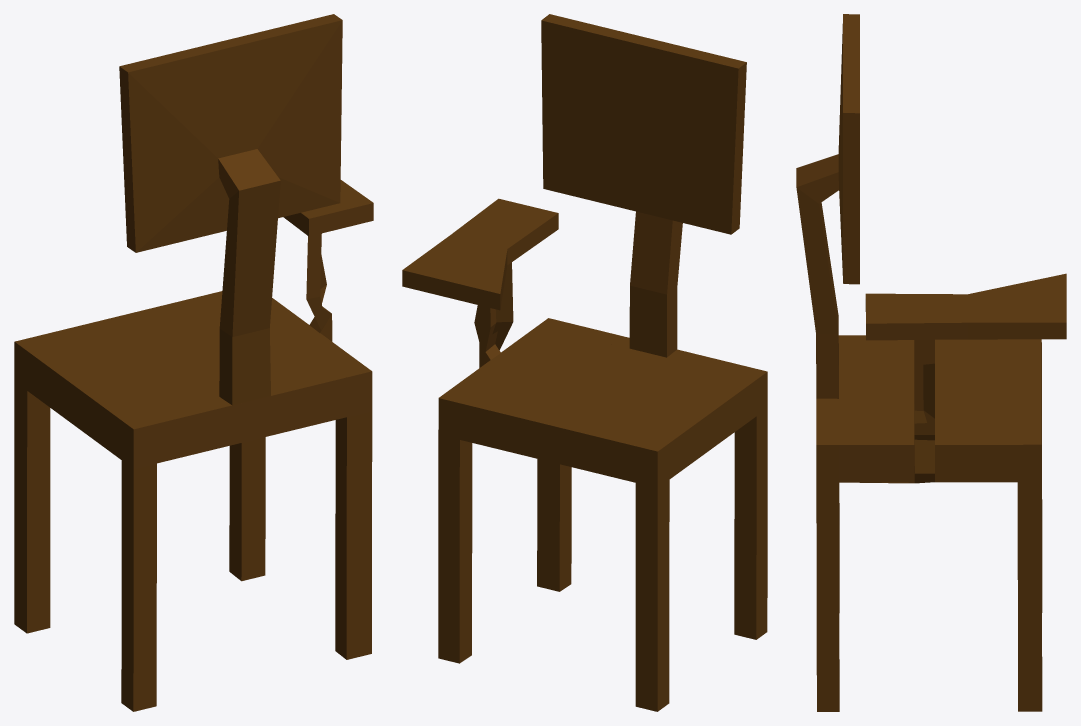
Rendered from mesa_braco.obj.
The picture shows the model from 3 angles, left to right: view 1: azimuth 30°, elevation 25°; view 2: azimuth 150°, elevation 25°; view 3: azimuth 270°, elevation 25°; orthographic projection. The views are drawn at different scales.
Parts seen in each view (by area): view 1: Cube_Cube; view 2: Cube_Cube; view 3: Cube_Cube.
Boxes of the visible parts, bbox=[...] form: Cube_Cube: bbox=[14, 14, 373, 711]; Cube_Cube: bbox=[402, 14, 767, 711]; Cube_Cube: bbox=[796, 14, 1066, 711].
Size of the model in its own units: 9.25 by 20.82 by 8.61.
